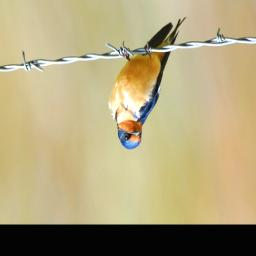Swallow: (107, 16, 186, 151)
